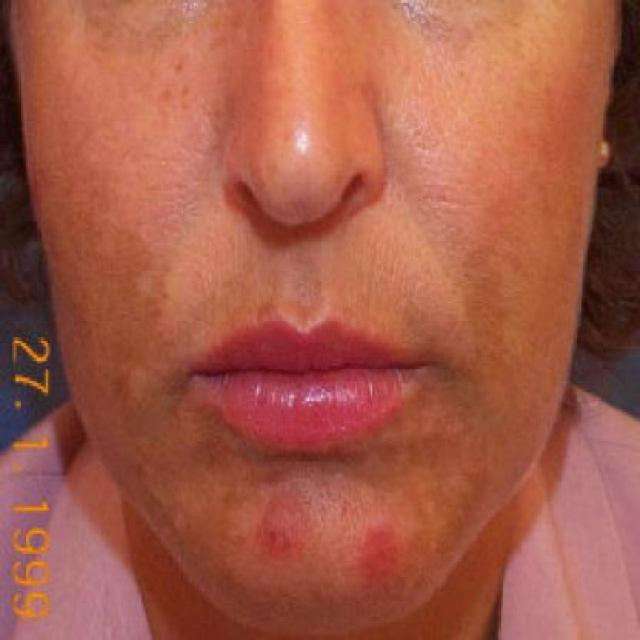melasma: (17, 5, 211, 525), (387, 58, 597, 467), (172, 410, 495, 603)
